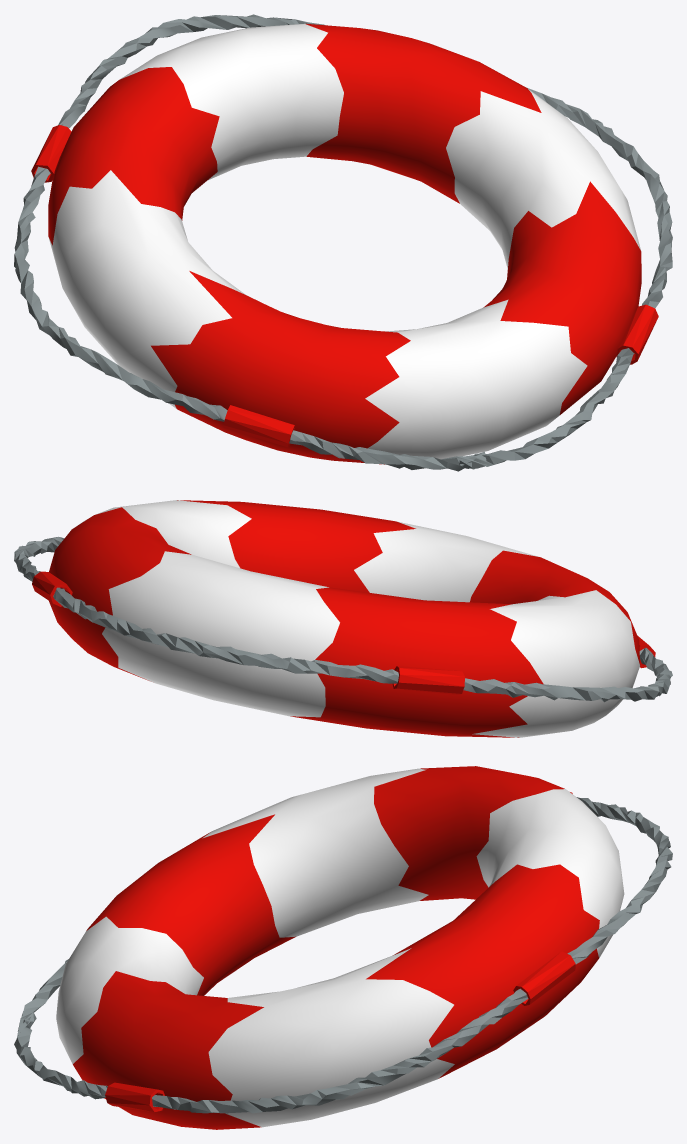
File: Pelampung.fbx
The picture shows the model from 3 angles, top to bottom: view 1: azimuth 30°, elevation 25°; view 2: azimuth 150°, elevation 25°; view 3: azimuth 270°, elevation 25°; orthographic projection.
Parts seen in each view (by area): view 1: Pelampung; view 2: Pelampung; view 3: Pelampung.
Part boxes in pixels (box(x1,y1,x2,y2)): Pelampung: box(14, 14, 672, 471); Pelampung: box(14, 500, 672, 737); Pelampung: box(14, 766, 672, 1129).
Bounding box in the file's own units: 51.93 × 20.05 × 48.9.
